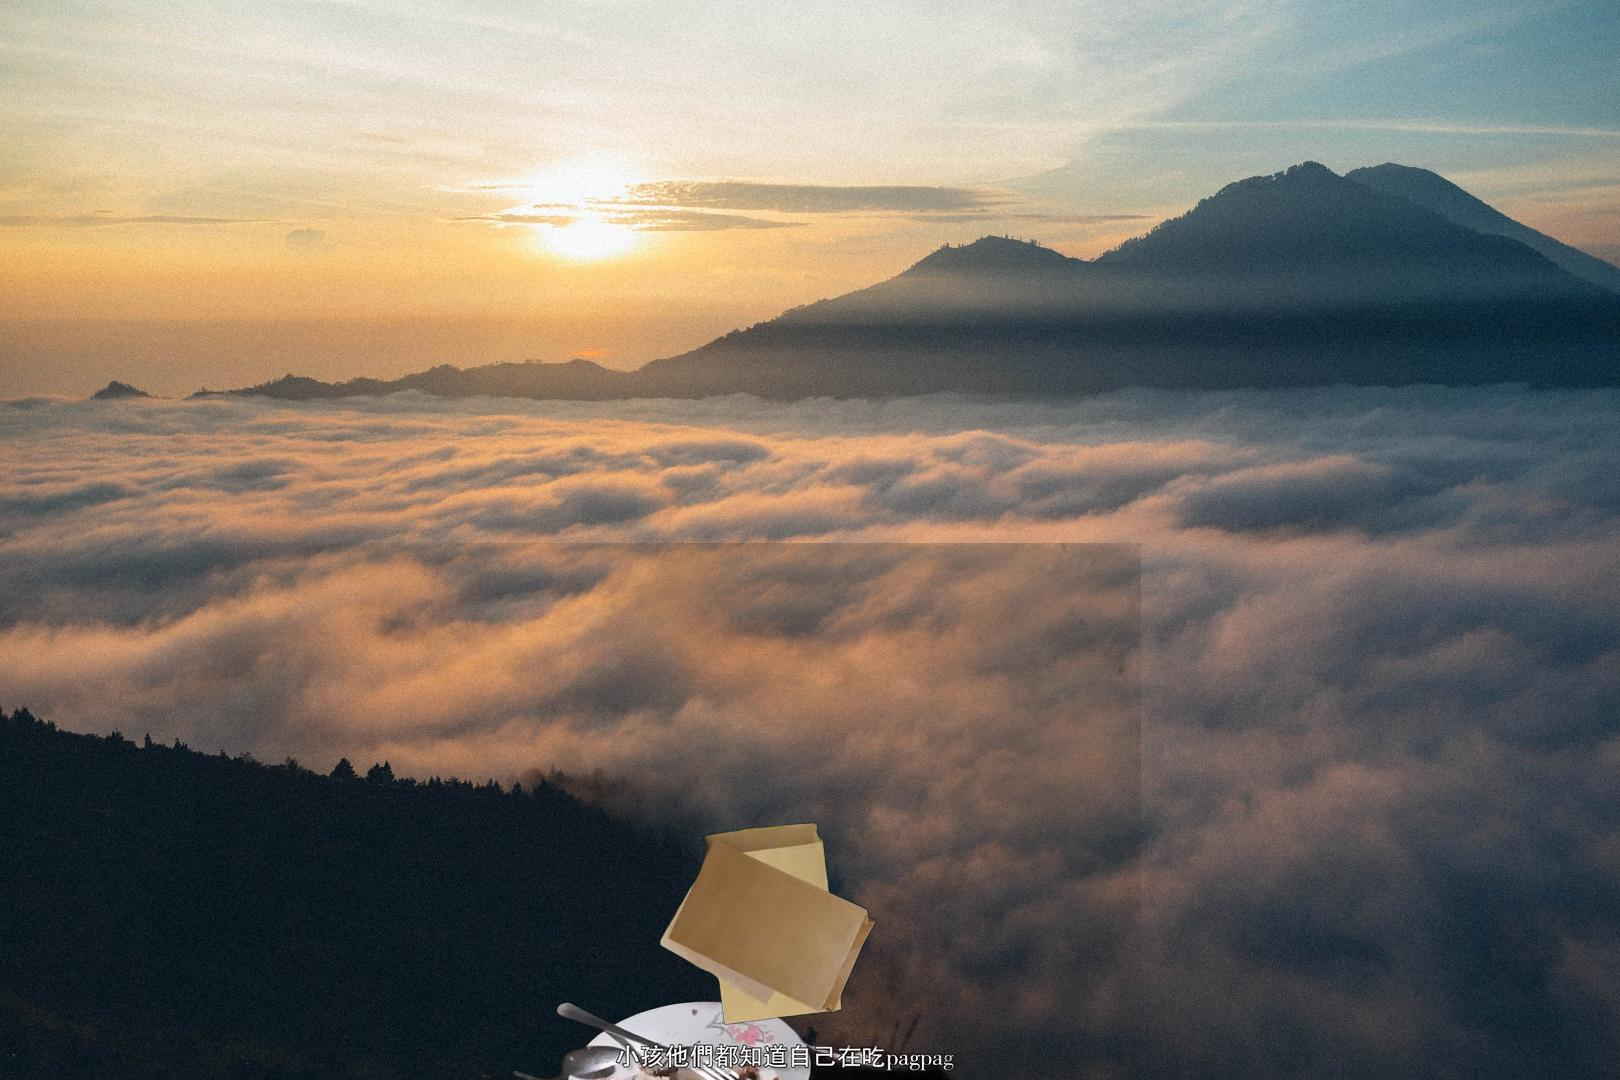biological: (505, 998, 1081, 1080)
paper-bag: (657, 819, 879, 1027)
trashbox-cardboard: (118, 543, 1141, 1080)
